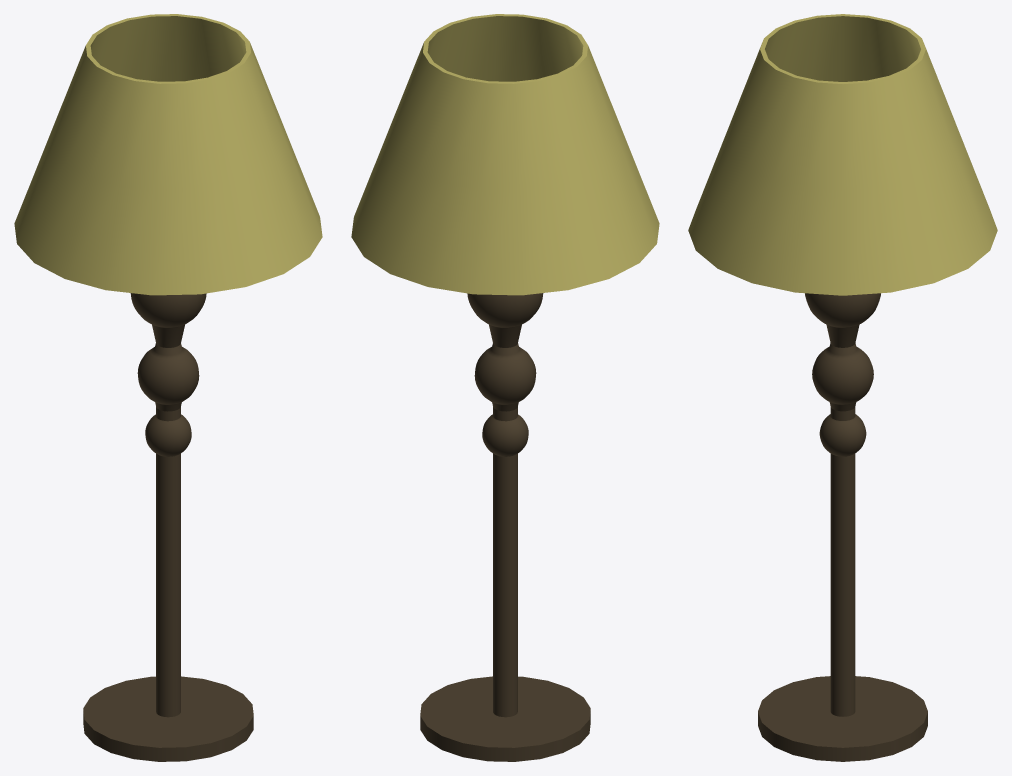
Rendered from LAMP.fbx.
3 renders of one model, left to right at view 1: azimuth 30°, elevation 25°; view 2: azimuth 150°, elevation 25°; view 3: azimuth 270°, elevation 25°, orthographic.
Parts seen in each view (by area): view 1: polySurface5, polySurface8, polySurface3, polySurface4, polySurface10, polySurface7; view 2: polySurface5, polySurface8, polySurface3, polySurface4, polySurface10, polySurface7; view 3: polySurface5, polySurface8, polySurface3, polySurface4, polySurface10, polySurface7.
Boxes of the visible parts, x1=… form: polySurface5: x1=14, y1=14, x2=322, y2=295; polySurface8: x1=83, y1=676, x2=253, y2=761; polySurface3: x1=156, y1=407, x2=180, y2=717; polySurface4: x1=137, y1=343, x2=199, y2=411; polySurface10: x1=130, y1=293, x2=206, y2=347; polySurface7: x1=145, y1=414, x2=191, y2=456; polySurface5: x1=351, y1=14, x2=659, y2=295; polySurface8: x1=420, y1=676, x2=590, y2=761; polySurface3: x1=493, y1=407, x2=517, y2=717; polySurface4: x1=474, y1=343, x2=536, y2=411; polySurface10: x1=467, y1=293, x2=543, y2=347; polySurface7: x1=482, y1=414, x2=528, y2=456; polySurface5: x1=688, y1=14, x2=997, y2=295; polySurface8: x1=758, y1=676, x2=927, y2=761; polySurface3: x1=830, y1=407, x2=855, y2=716; polySurface4: x1=812, y1=343, x2=873, y2=411; polySurface10: x1=805, y1=293, x2=880, y2=347; polySurface7: x1=819, y1=414, x2=866, y2=456.
Size of the model in its own units: 1.07 by 2.58 by 1.07.
